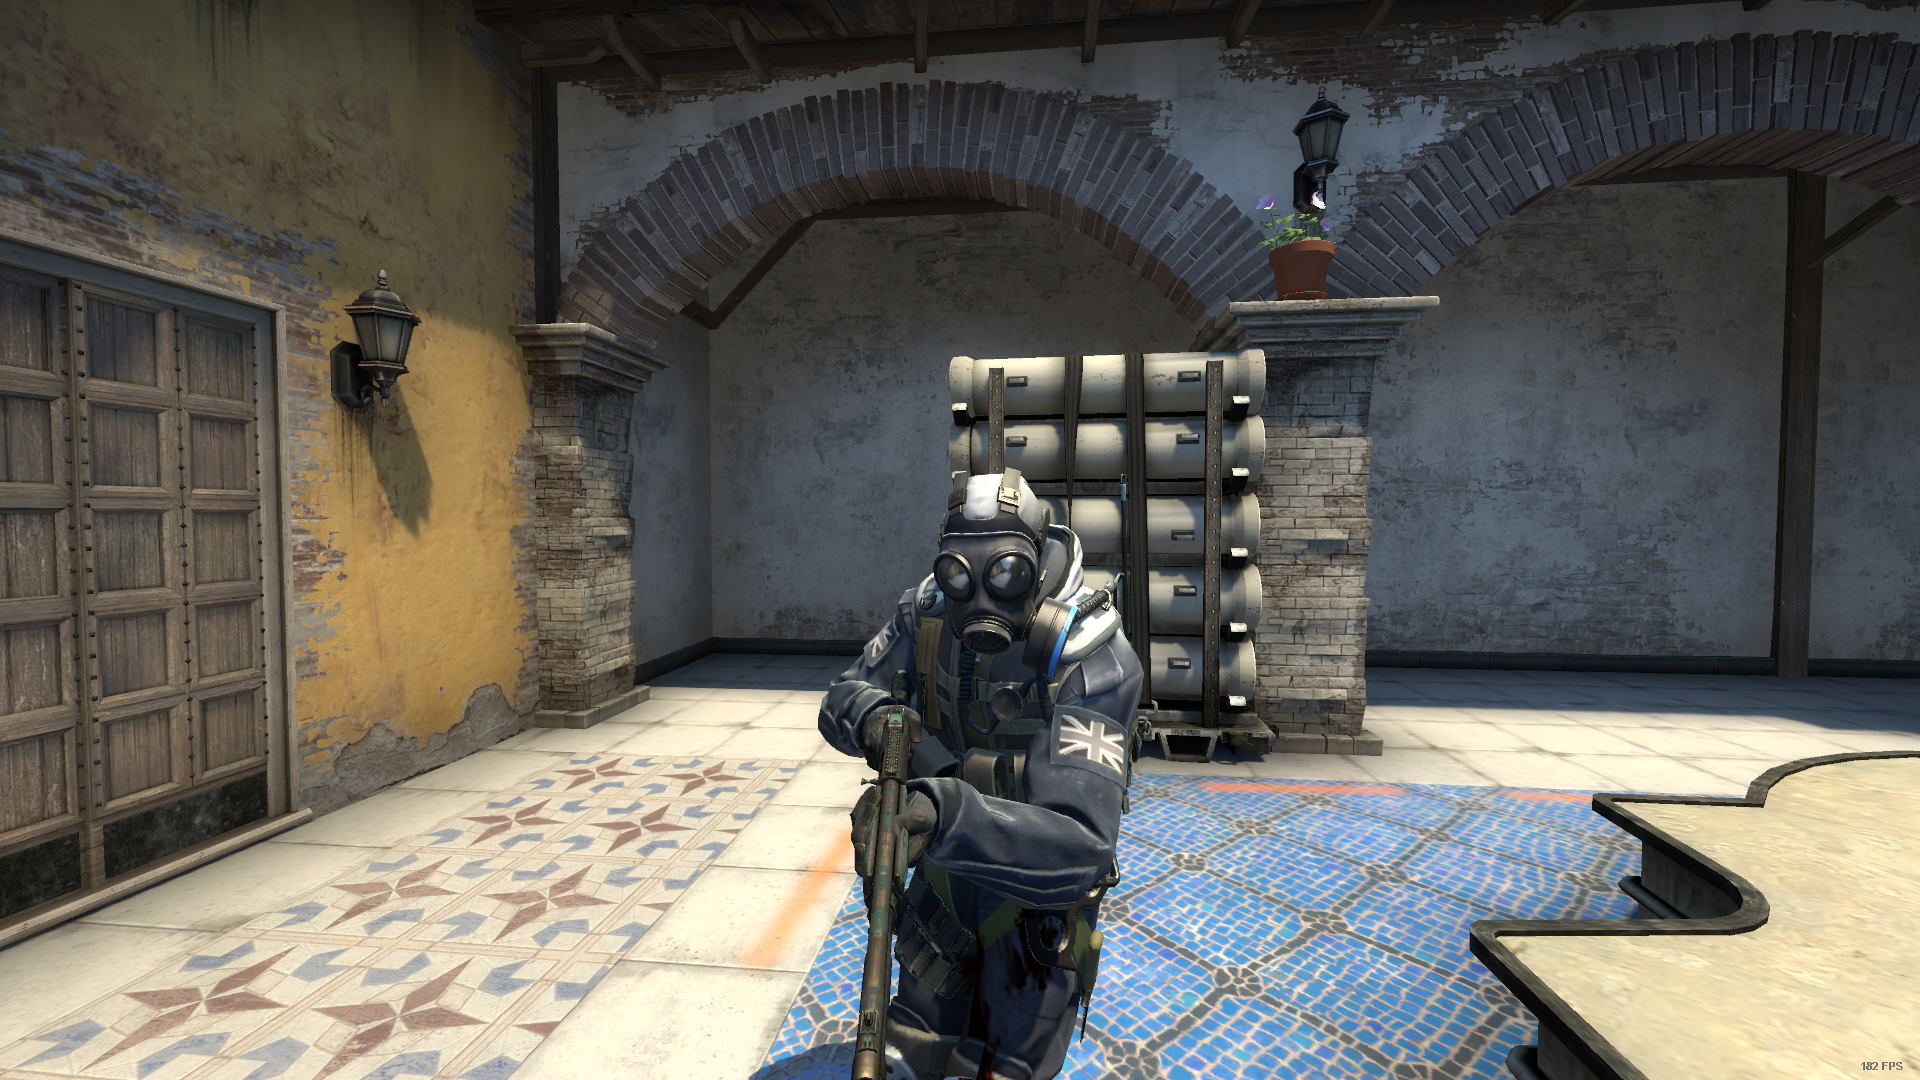ct: (824, 468, 1145, 1080)
